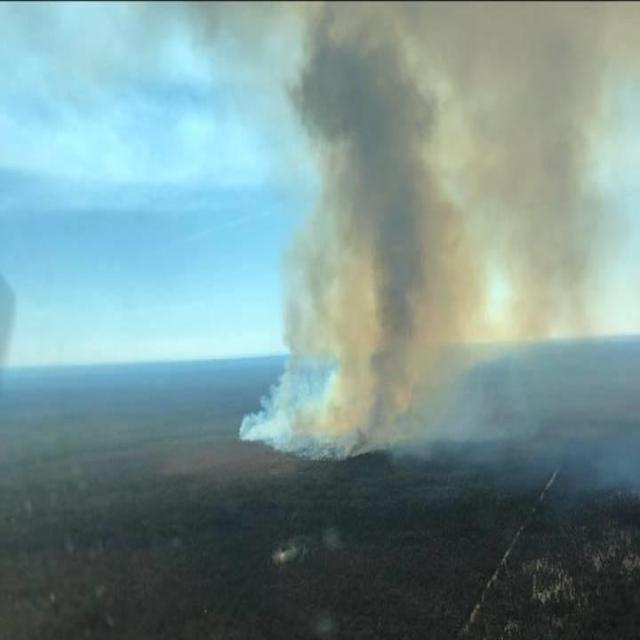Fire: (236, 6, 632, 477)
